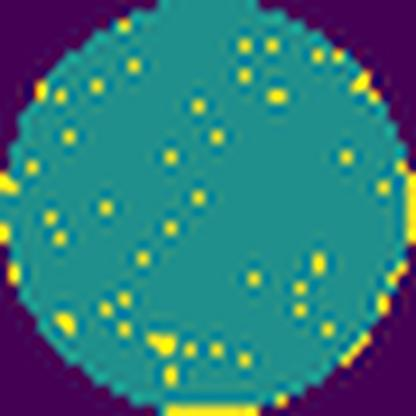Edge-Loc: (153, 396, 261, 416), (404, 173, 415, 247)
